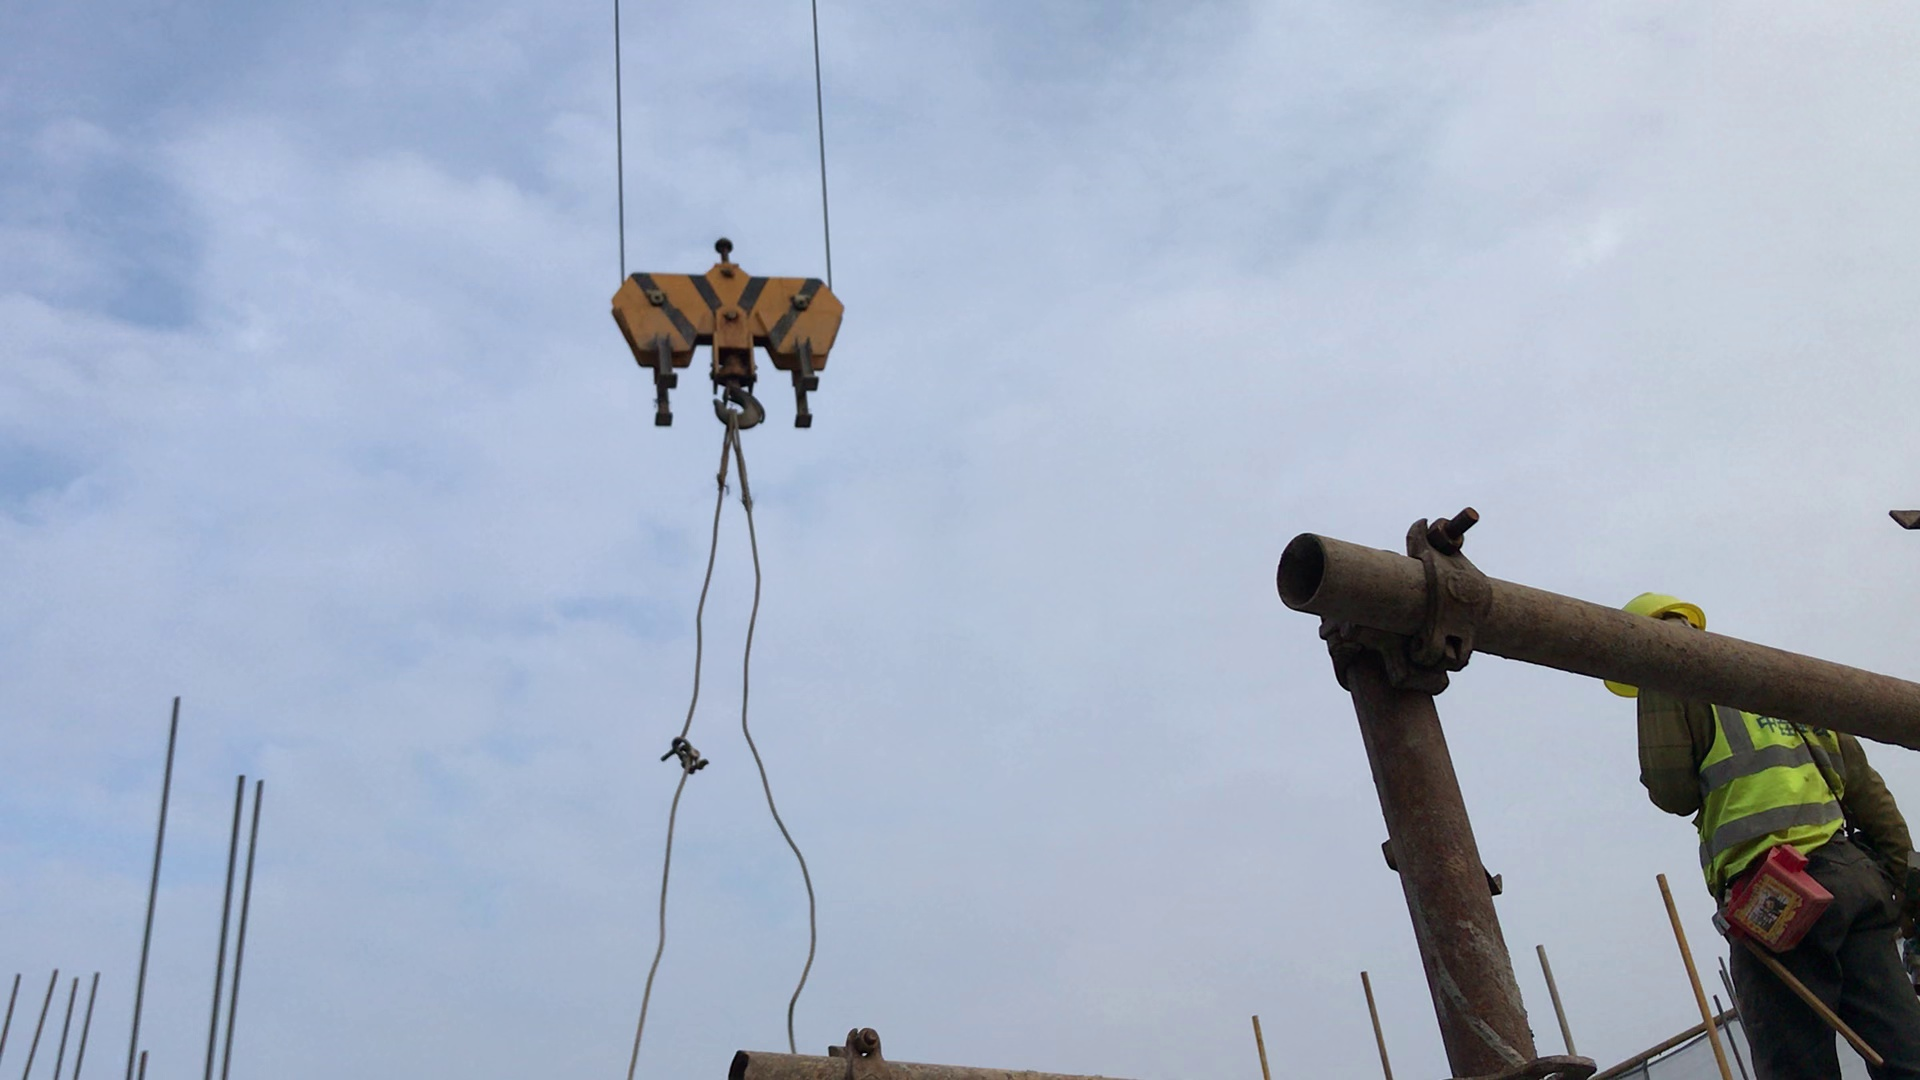helmet: (1615, 597, 1720, 627)
hook: (612, 237, 842, 433)
person: (1616, 594, 1920, 1080)
vest: (1681, 693, 1859, 869)
